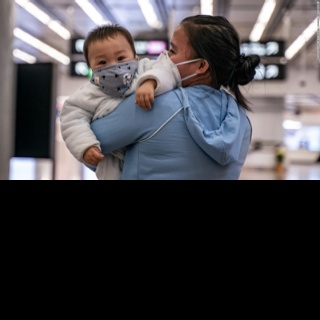with_mask: (90, 48, 139, 97), (156, 40, 182, 89)
